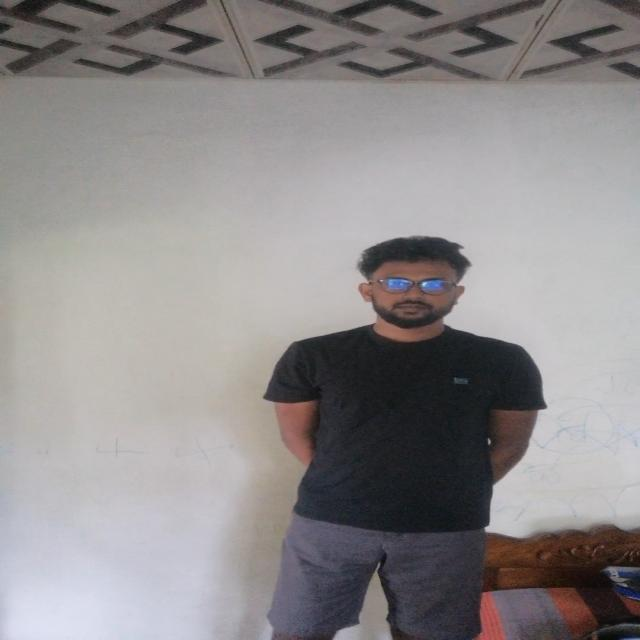Person: (265, 235, 544, 640)
